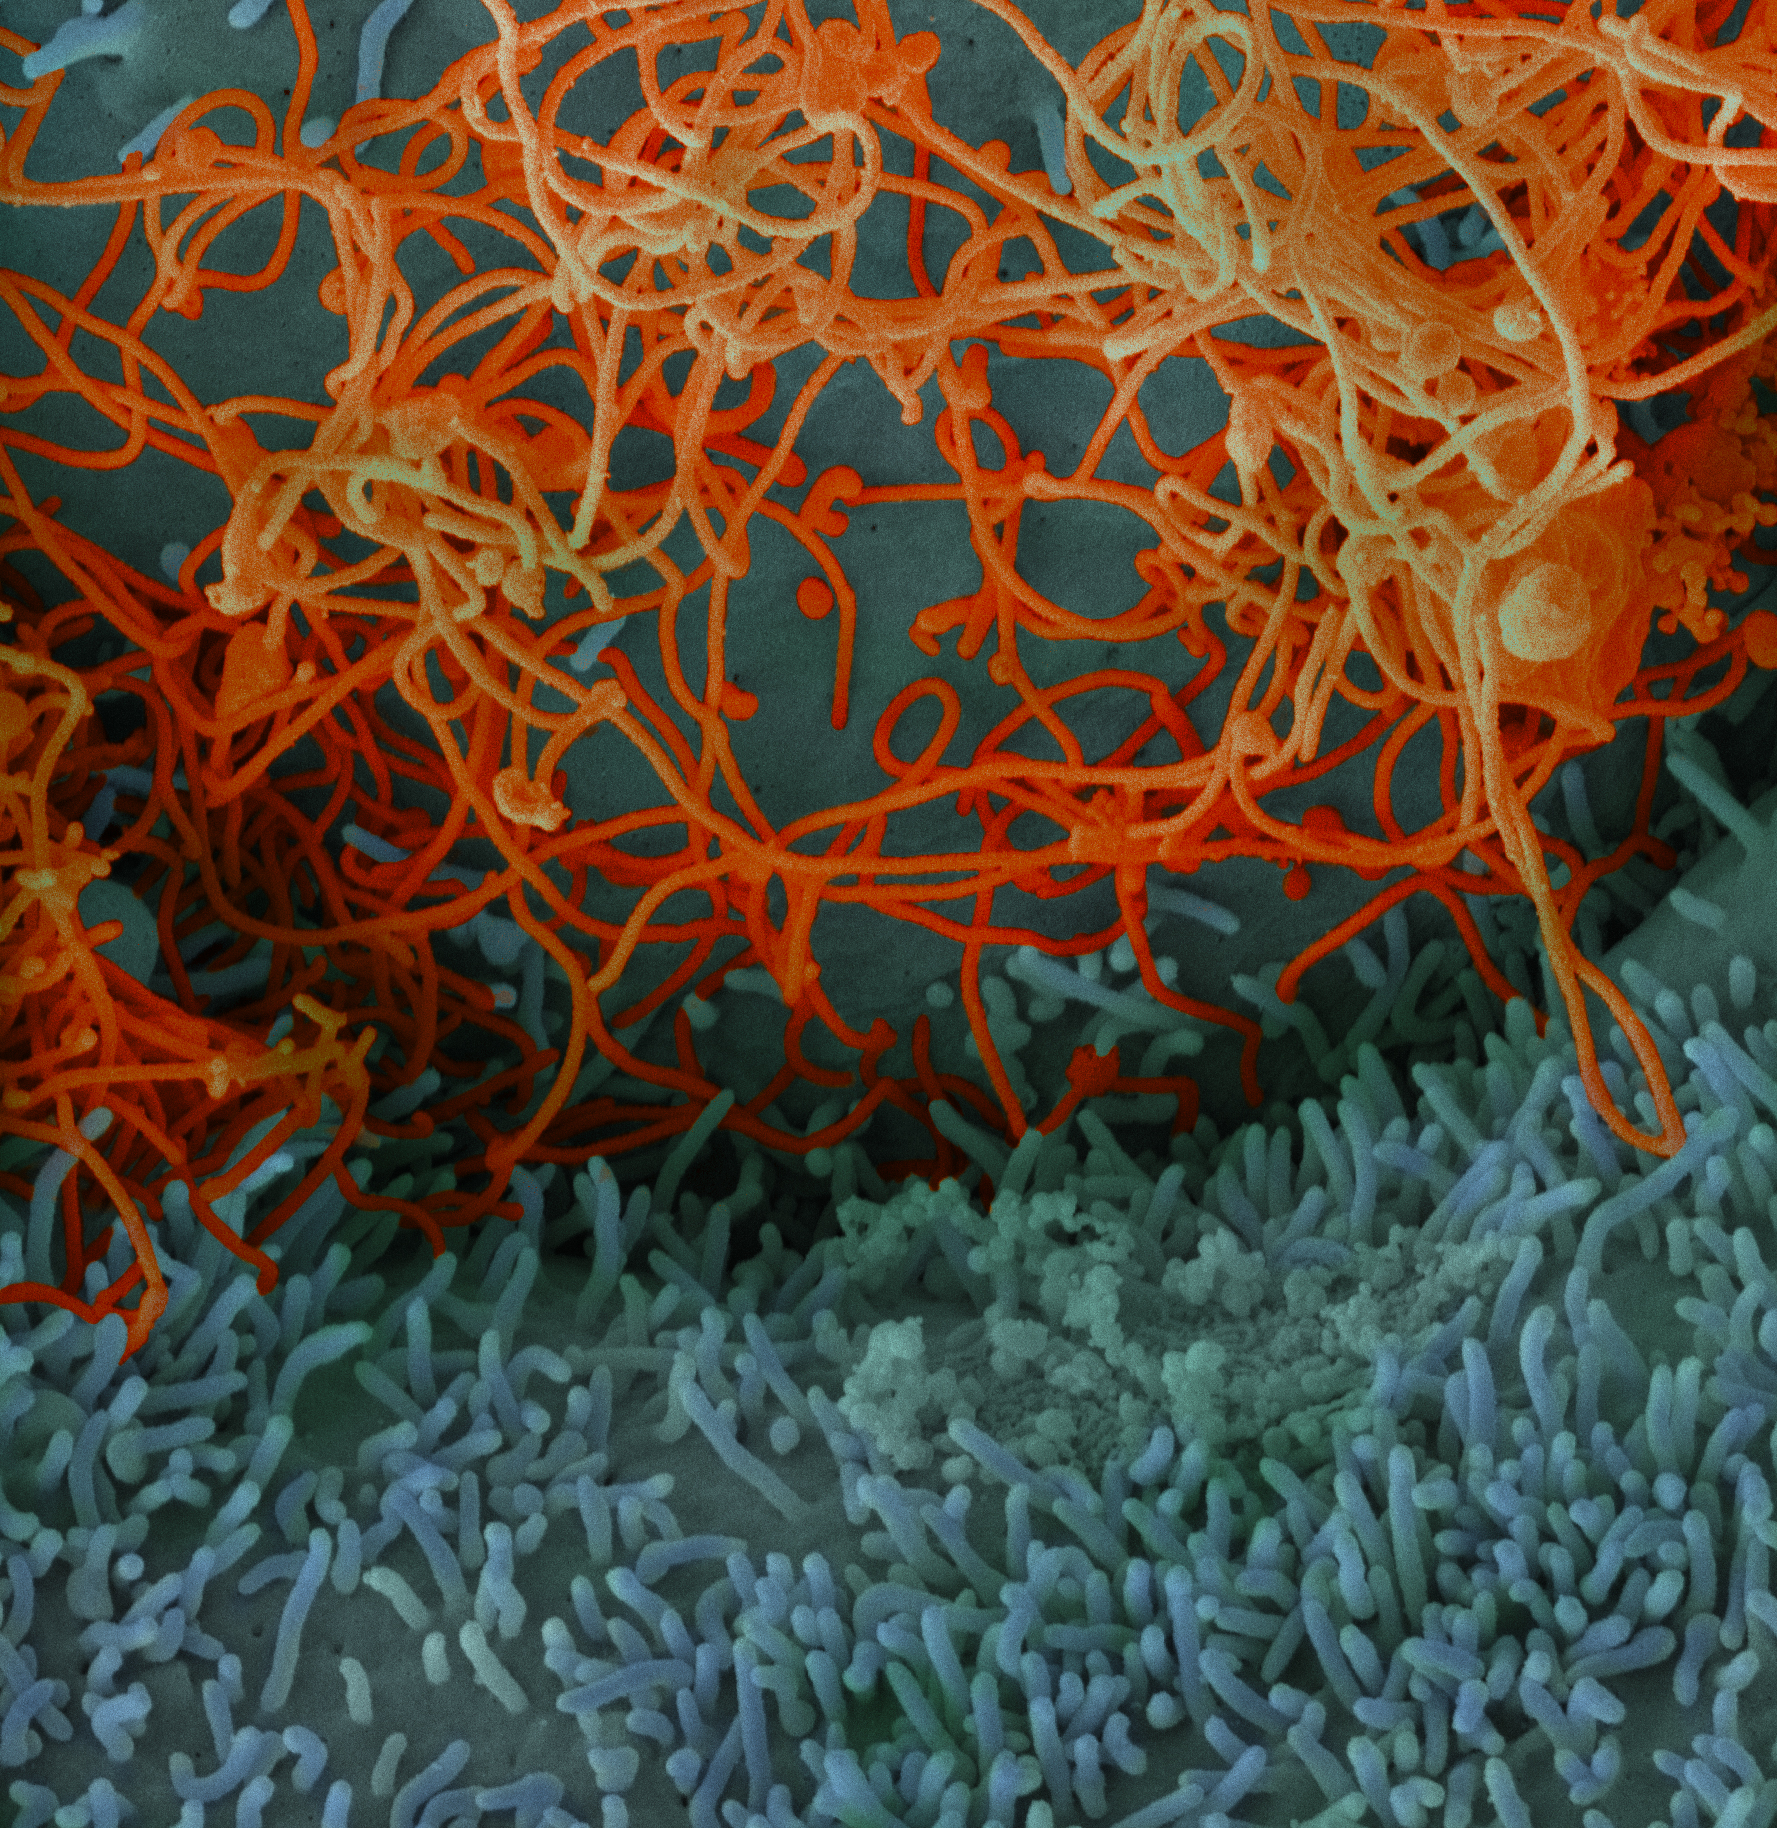COVID19: (173, 114, 1358, 992)
